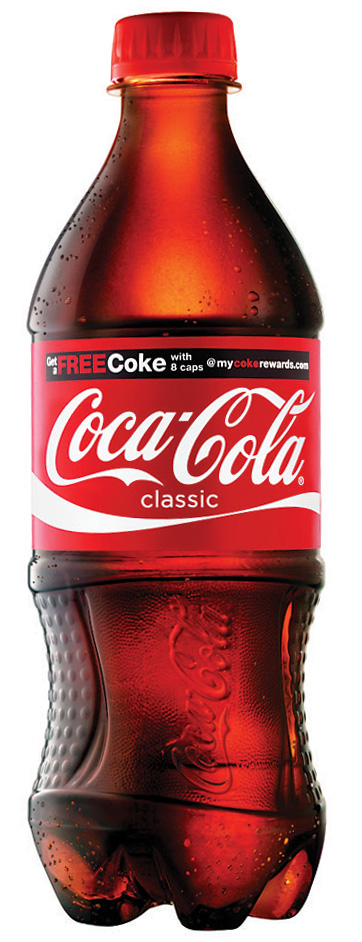Rec_Plastic: (5, 1, 329, 919)
